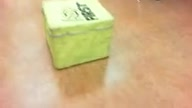cube: (41, 1, 115, 71)
